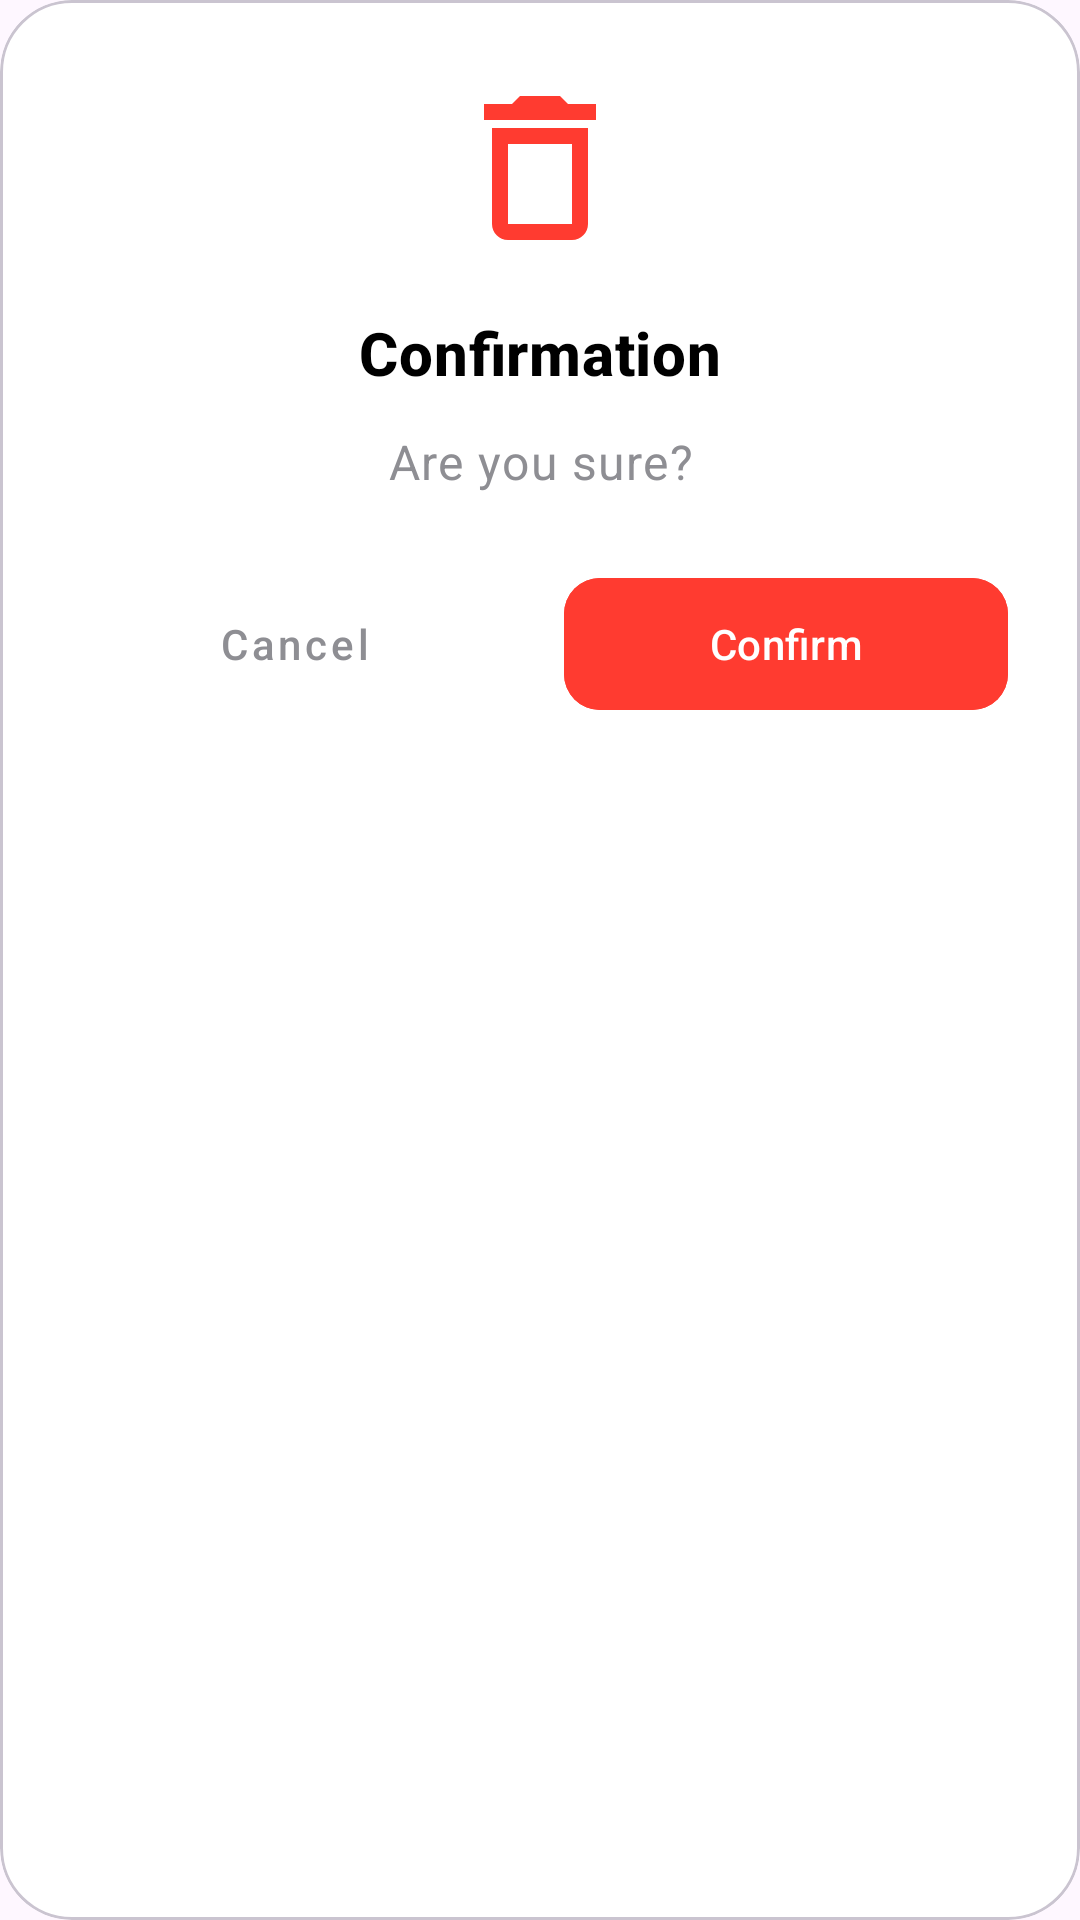

Screen size 1080*1920. Icon name, then its box in pixels as (x1, y1, x2, y2):
delete: (484, 96, 596, 240)
